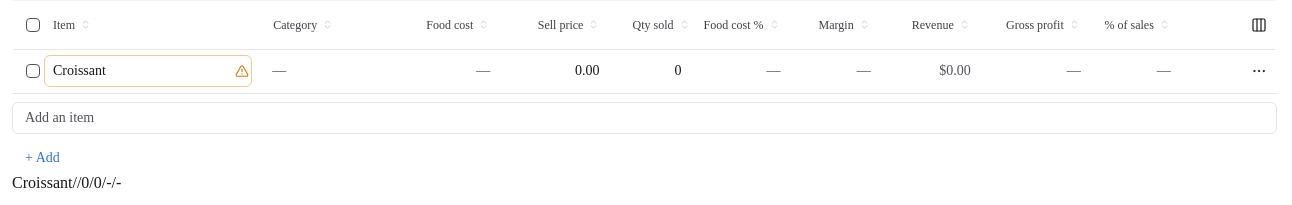
Test: linking a row › reopens the suggestions from the amber flag
Click the button named "Not linked: pick a recipe or a product" at x=242, y=71, box 230,59 -> 254,83
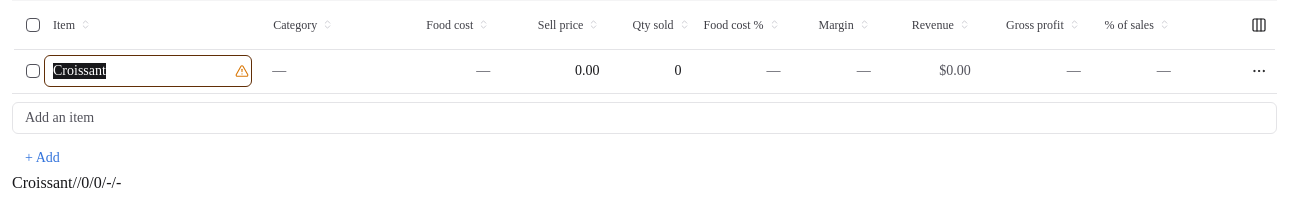
Focus the dropdown named "Item name" at x=148, y=71, box 44,55 -> 252,87
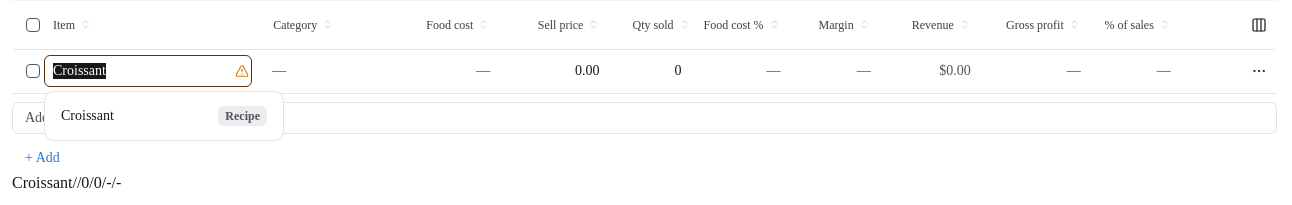
Now the option "Croissant Recipe" is shown, box 51,98 -> 277,134
